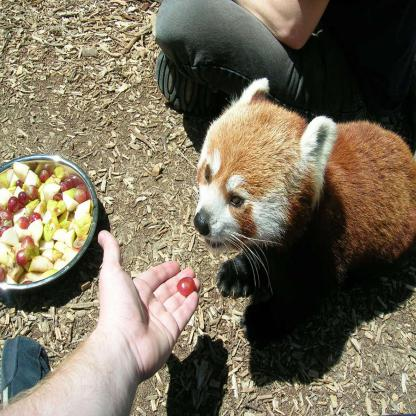Apple: (0, 160, 90, 284)
